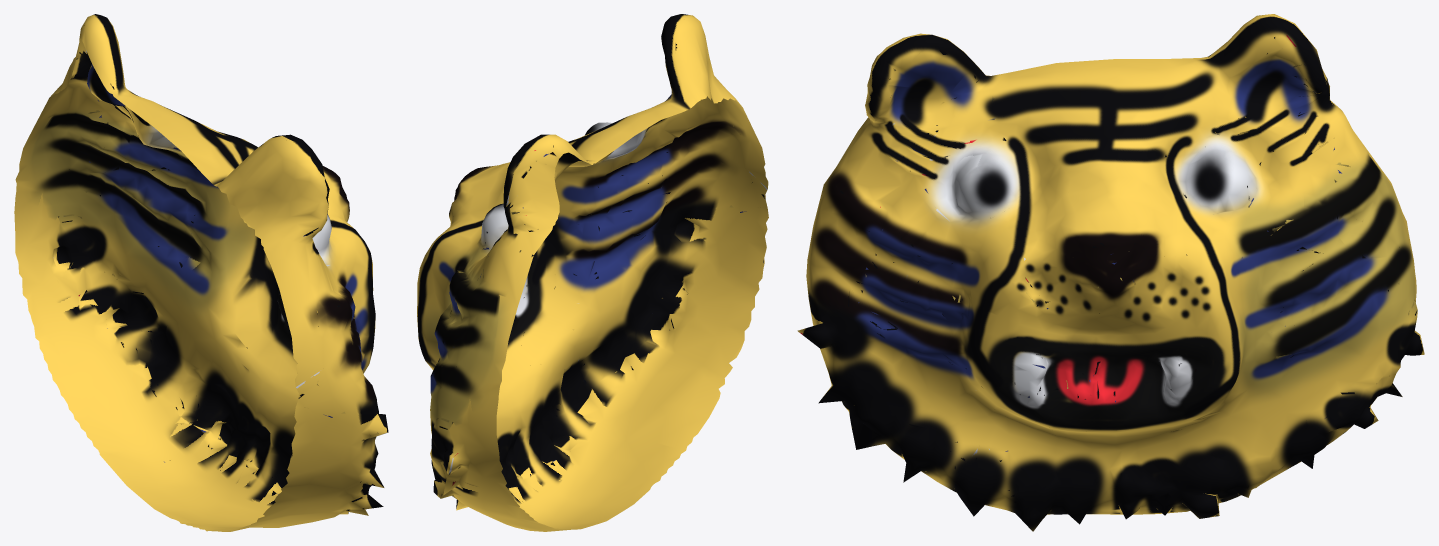
The model's file is maskCat.glb.
The picture shows the model from 3 angles, left to right: view 1: azimuth 30°, elevation 25°; view 2: azimuth 150°, elevation 25°; view 3: azimuth 270°, elevation 25°; orthographic projection. The views are drawn at different scales.
Visible parts, largest first — view 1: Sphere; view 2: Sphere; view 3: Sphere.
Part boxes in pixels (x1,y1,x2,y2): Sphere: (14,14,388,531); Sphere: (417,14,768,531); Sphere: (797,14,1424,531).
Size of the model in its own units: 3.45 by 7.54 by 9.13.
Materials: 1 (1 with a texture image).
